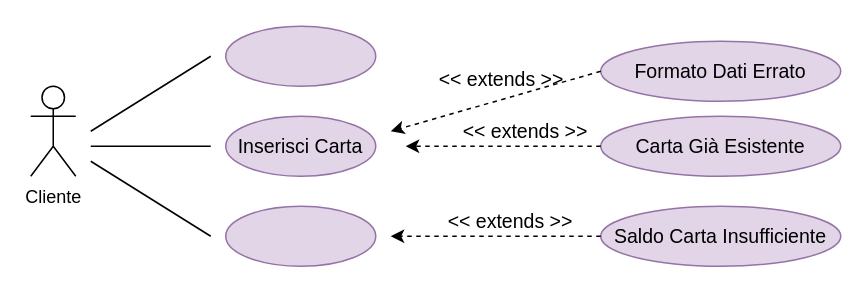
Some shapes in this 867 by 293 pixel diagram are drawn without their labels. Here are the shapes that lost their labels. From the top down, the box of each, then its label:
(224, 25, 376, 86): Gestisci Carte
(224, 205, 376, 266): Ricarica Saldo
